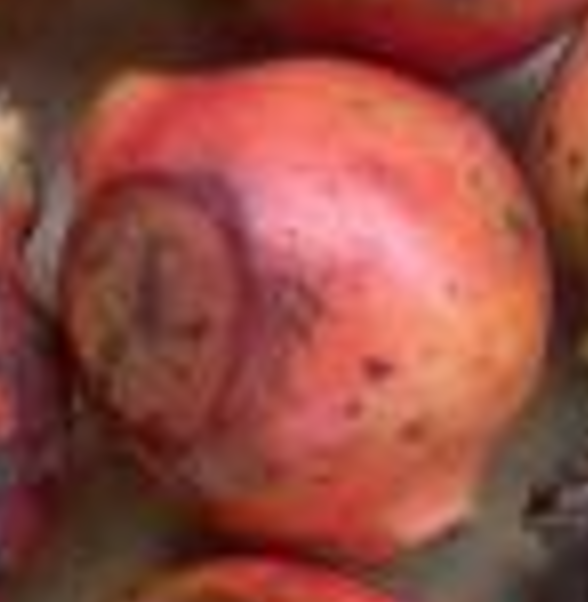pomegranate_C: (54, 53, 556, 560)
